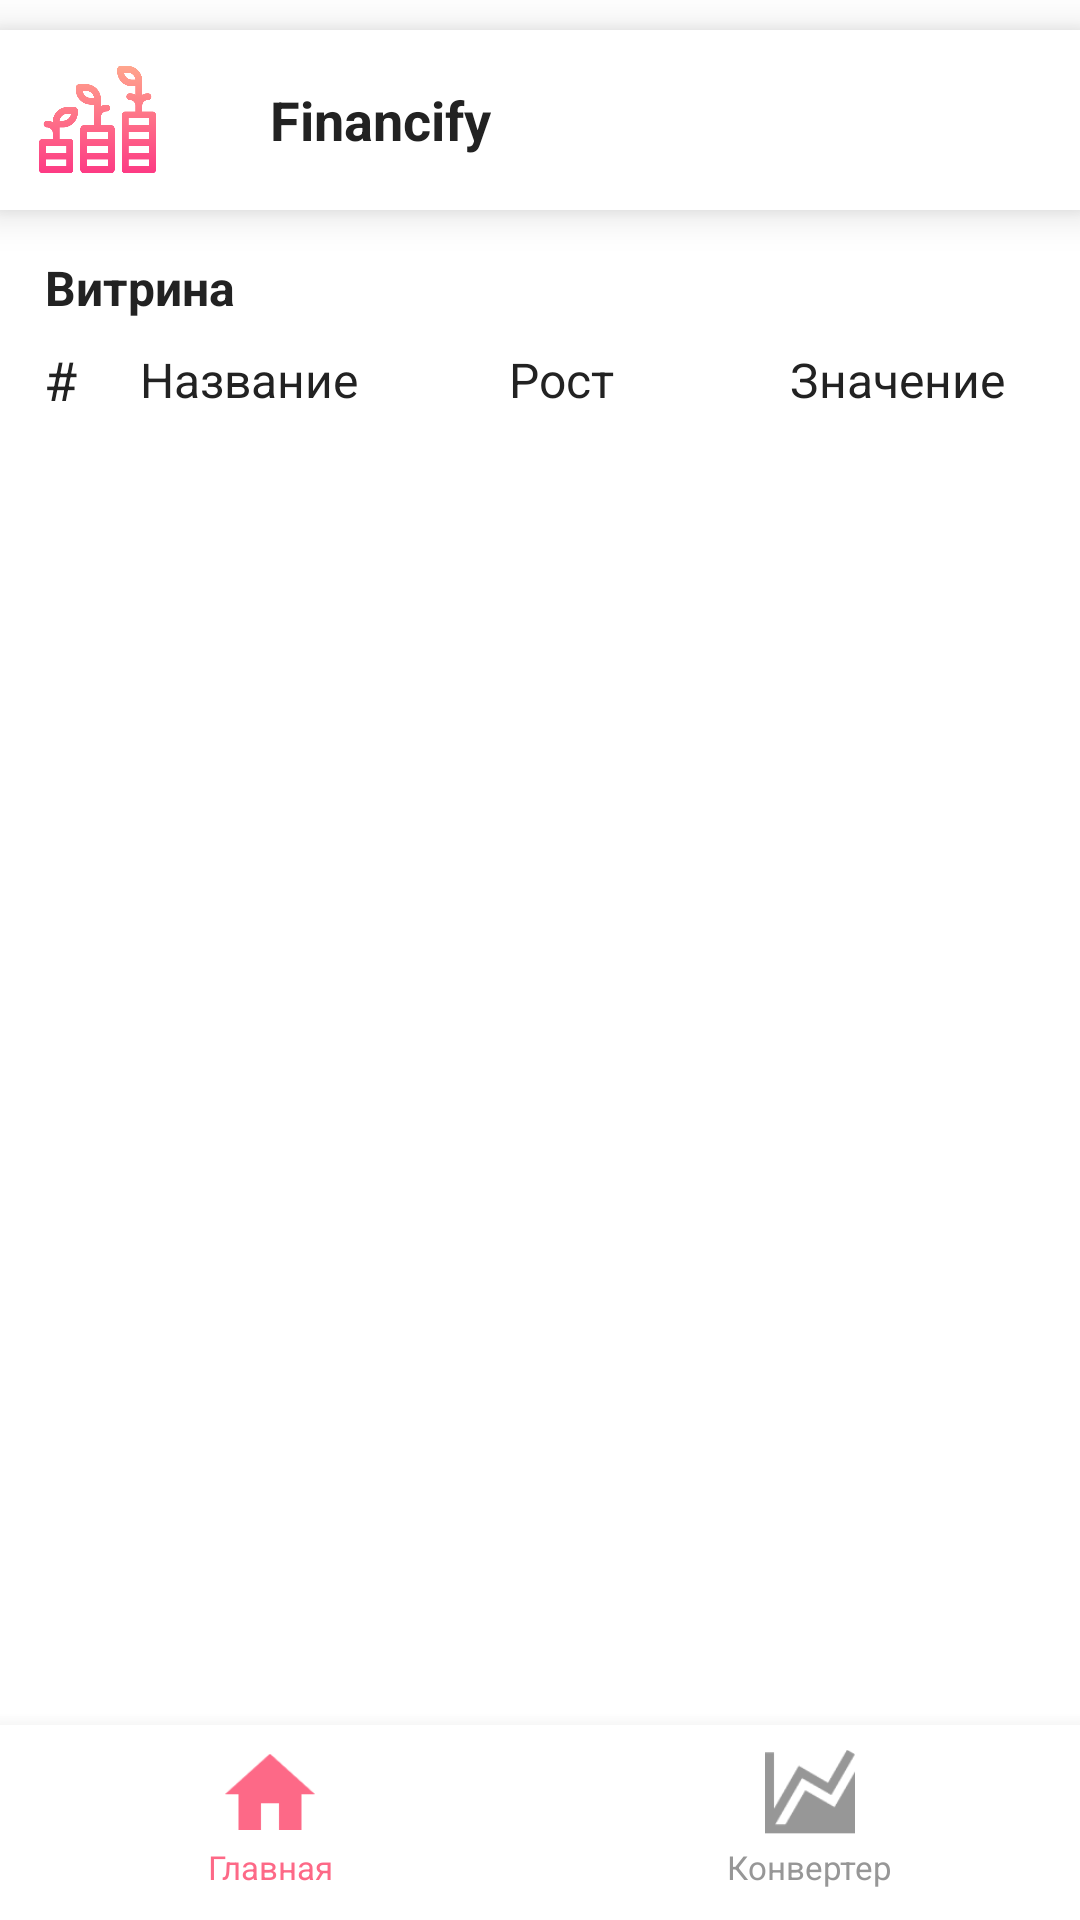

Where to tap for icons on this 1080px x 1920px app screen, as (x,y):
investing: (97,119)
